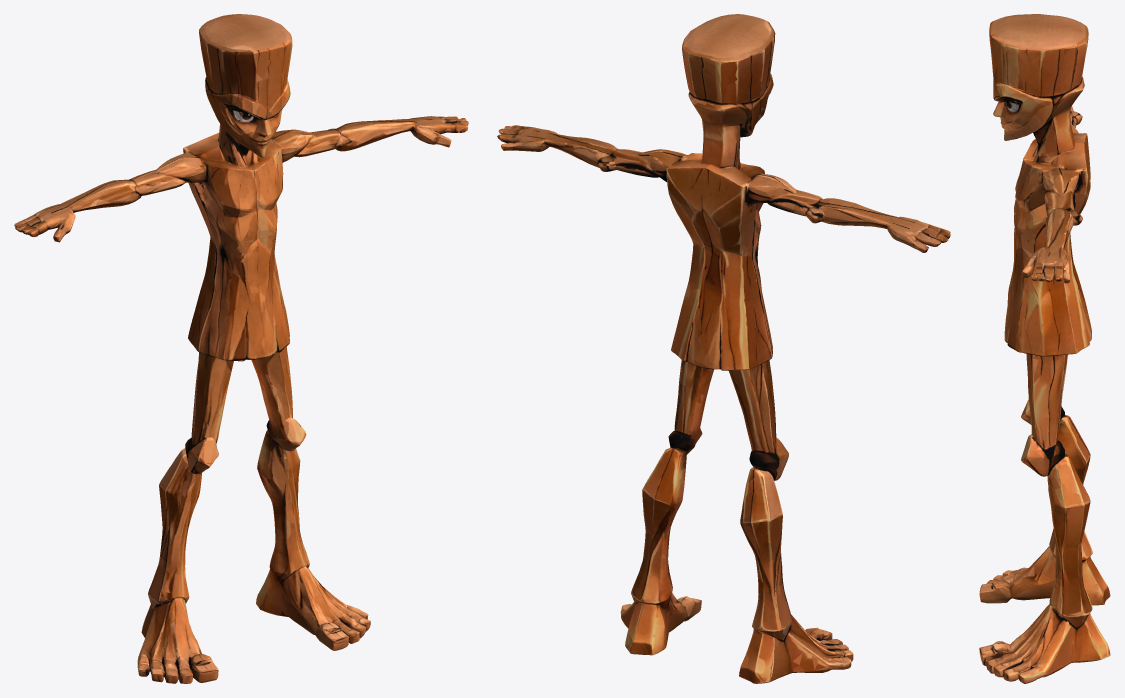
Rendered from Sahur.obj.
3 renders of one model, left to right at view 1: azimuth 30°, elevation 25°; view 2: azimuth 150°, elevation 25°; view 3: azimuth 270°, elevation 25°, orthographic.
Parts seen in each view (by area): view 1: geometry_0; view 2: geometry_0; view 3: geometry_0.
Boxes of the visible parts, x1,y1,x2,y2 form: geometry_0: [14, 14, 468, 683]; geometry_0: [497, 14, 950, 683]; geometry_0: [979, 14, 1110, 683].
Bounding box in the file's own units: 1.51 × 1.99 × 0.3873.
1 material, 1 textured.
